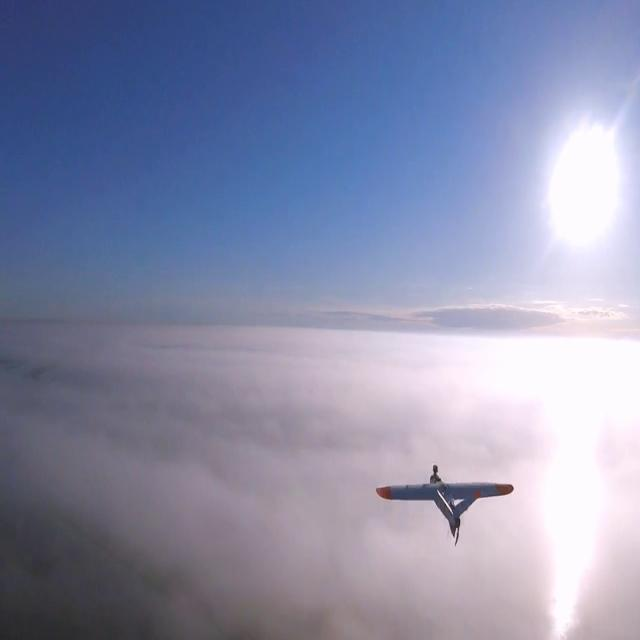iha: (379, 492, 511, 514)
